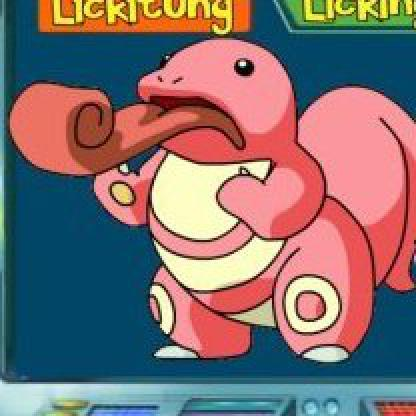Lickitung: (5, 23, 415, 369)
